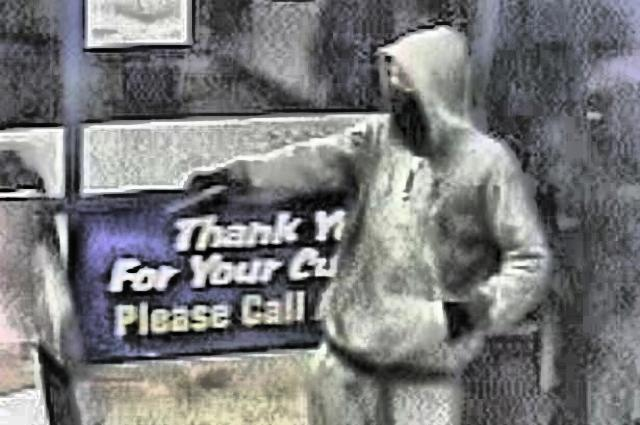pistol: (153, 171, 230, 223)
